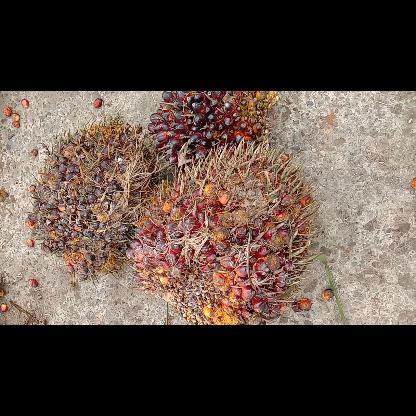Kurang masak: (32, 120, 146, 280), (147, 91, 279, 163)
TBS masak: (126, 143, 316, 323)
